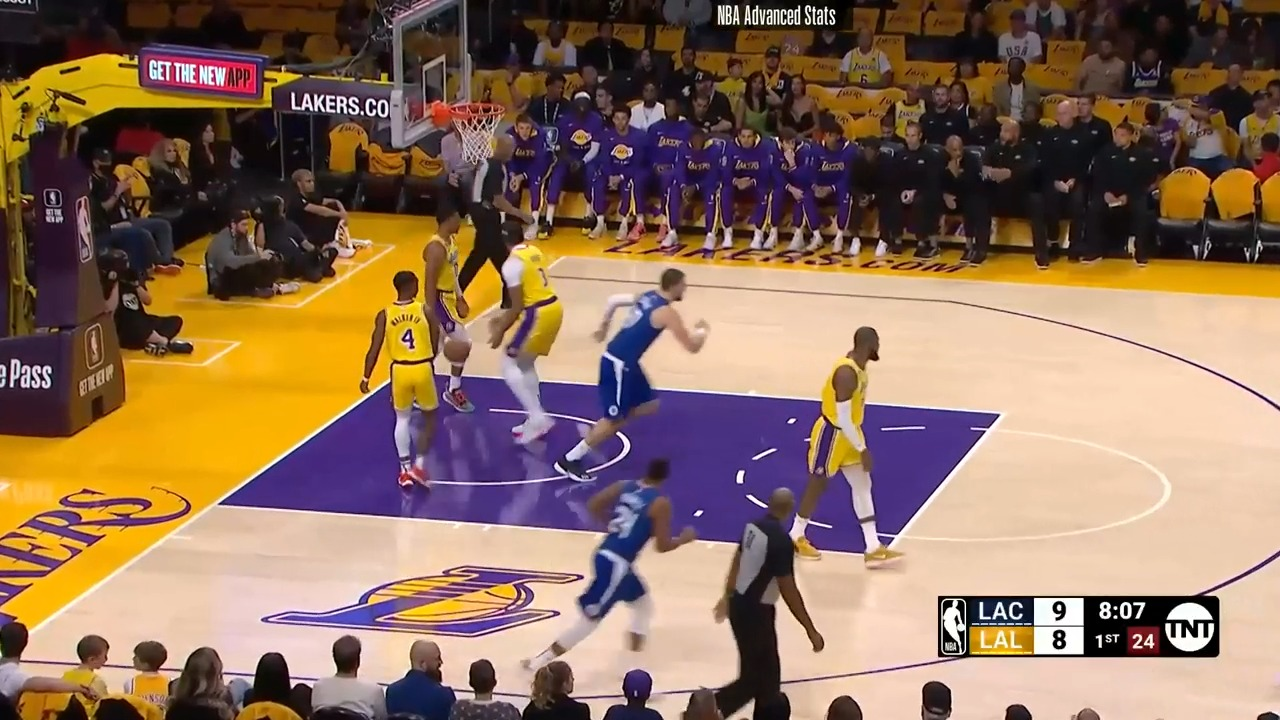net: (425, 91, 517, 161)
player: (522, 448, 696, 682), (564, 266, 714, 481), (788, 325, 905, 574), (359, 263, 472, 496), (491, 224, 569, 462), (419, 195, 472, 416)
referee: (703, 481, 826, 717), (441, 138, 531, 321)
